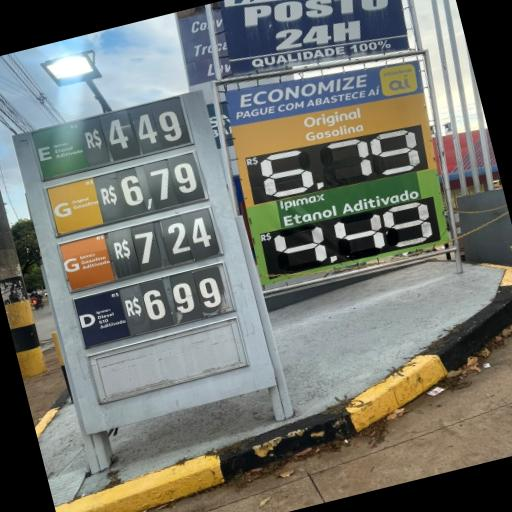ETANOL: (30, 123, 88, 177)
GASOLINA AD: (59, 233, 116, 291)
GASOLINA C: (46, 177, 107, 235)
S10: (73, 289, 133, 347)
placa: (17, 91, 262, 361)
preco: (138, 264, 230, 331), (128, 209, 223, 272), (104, 96, 188, 162), (117, 153, 203, 215)
